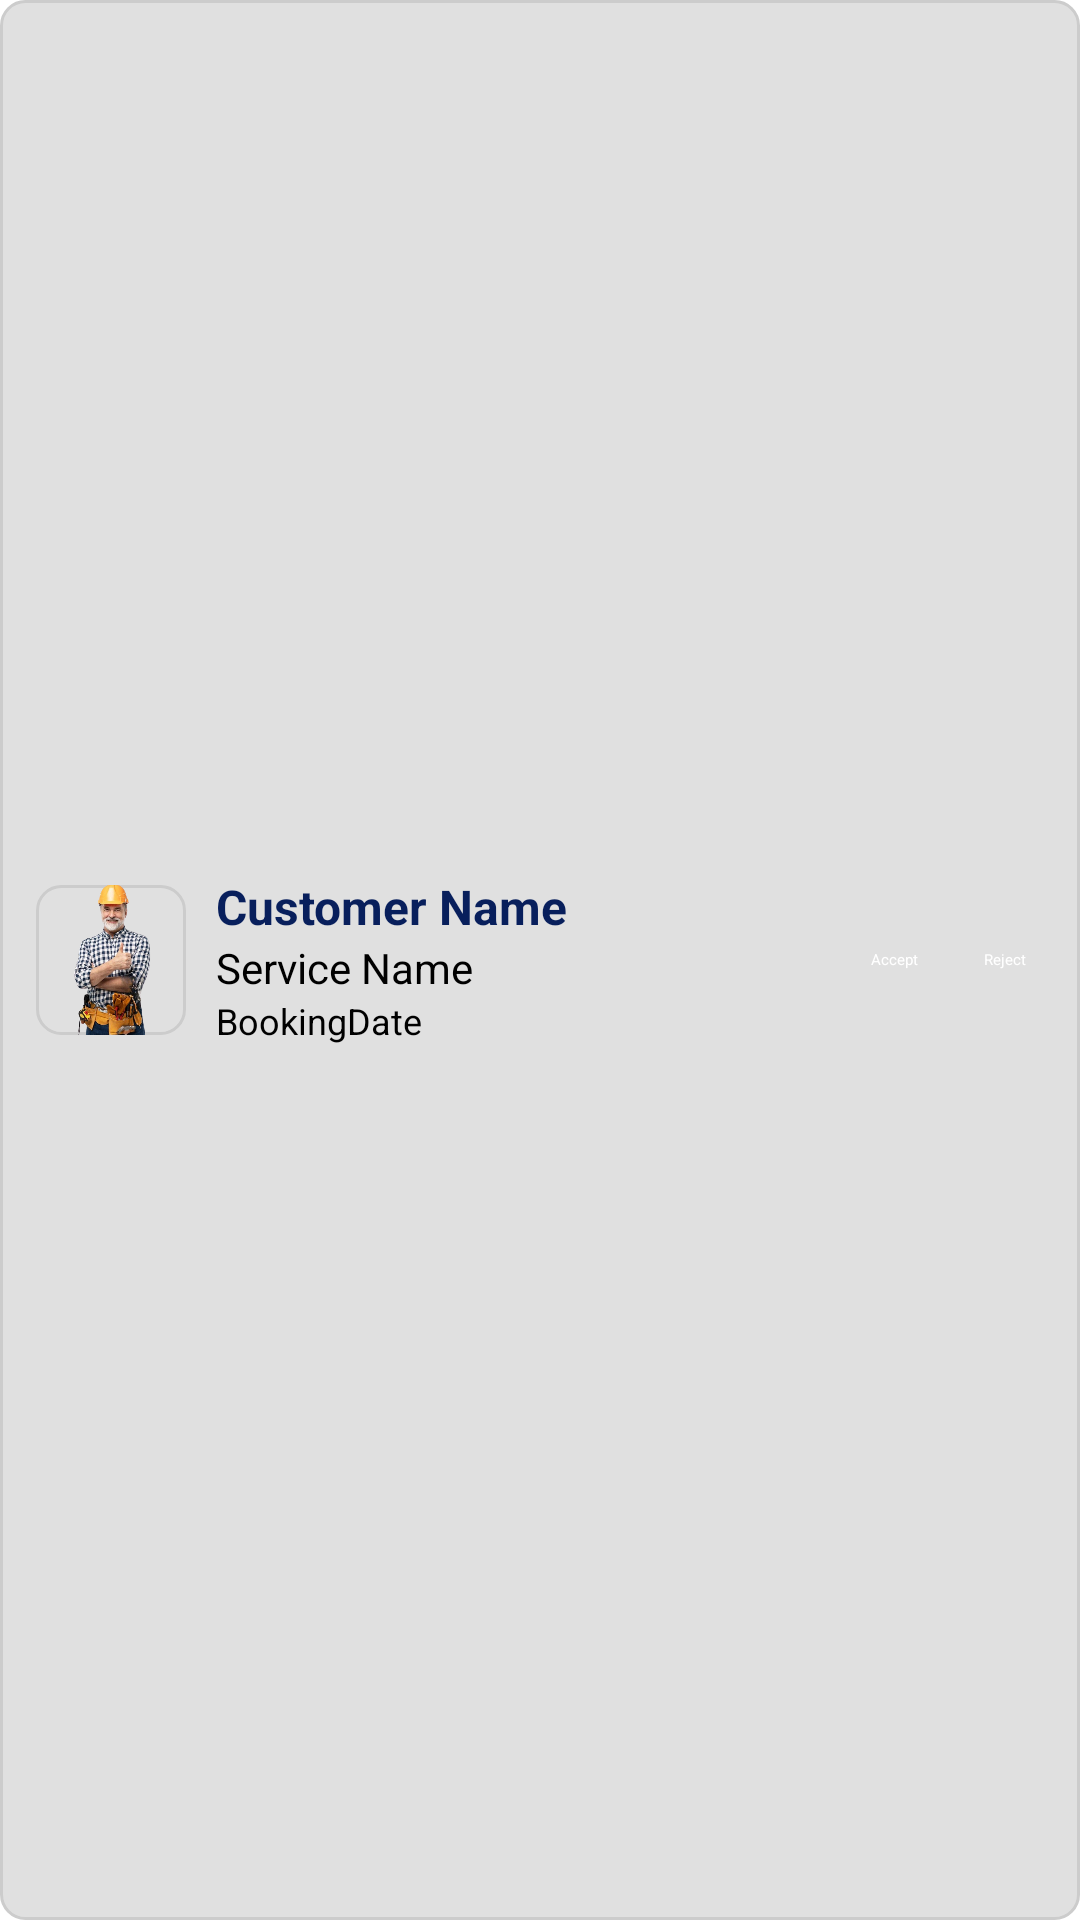

Screen size 1080 × 1920. Icon name, then its box in pixels as (x1, y1, x2, y2):
man: (74, 885, 150, 1035)
